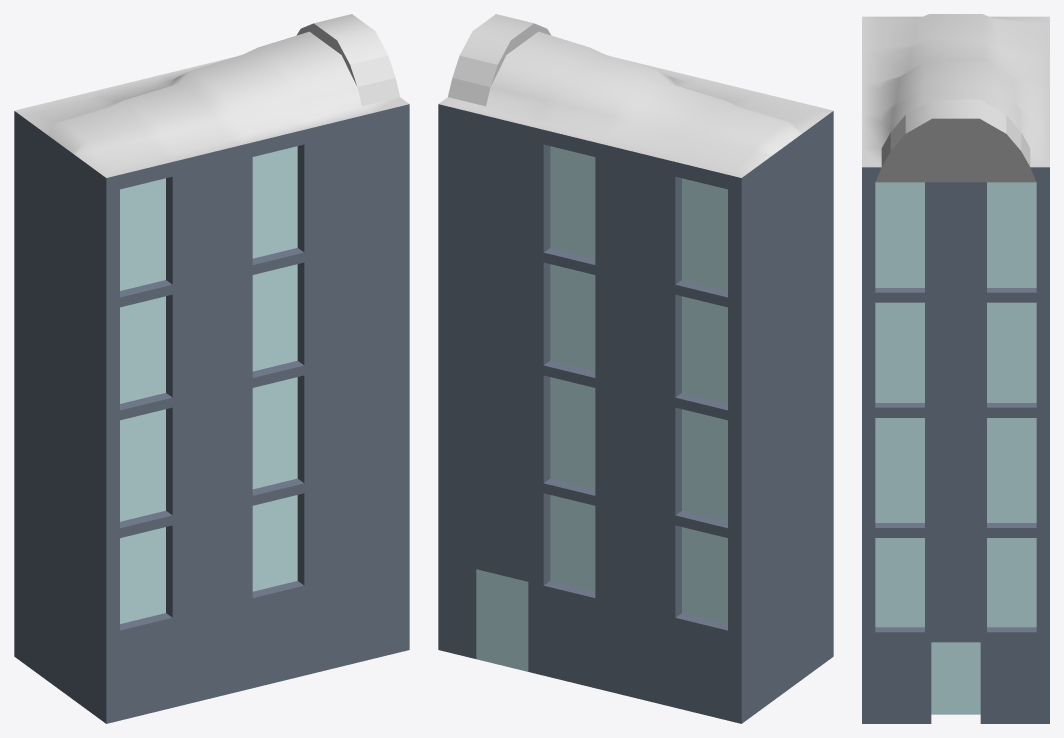
File: Haneji_test6 1.fbx
3 renders of one model, left to right at view 1: azimuth 30°, elevation 25°; view 2: azimuth 150°, elevation 25°; view 3: azimuth 270°, elevation 25°, orthographic.
Visible parts, largest first — view 1: MiniBill4; view 2: MiniBill4; view 3: MiniBill4.
Part boxes in pixels (box(x1,y1,x2,y2)): MiniBill4: box(14, 14, 409, 723); MiniBill4: box(438, 14, 833, 723); MiniBill4: box(862, 14, 1049, 723).
Bounding box in the file's own units: 1000 × 1870 × 526.
